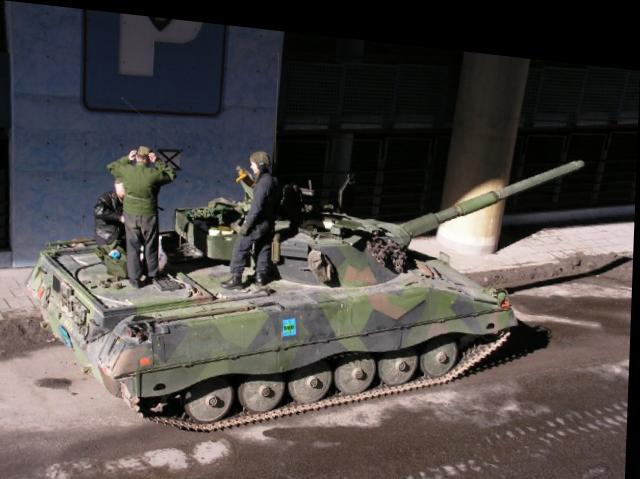other: (104, 121, 189, 285), (225, 143, 291, 288)
tank: (29, 177, 516, 431)
